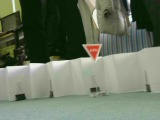speed_20: (81, 44, 104, 63)
